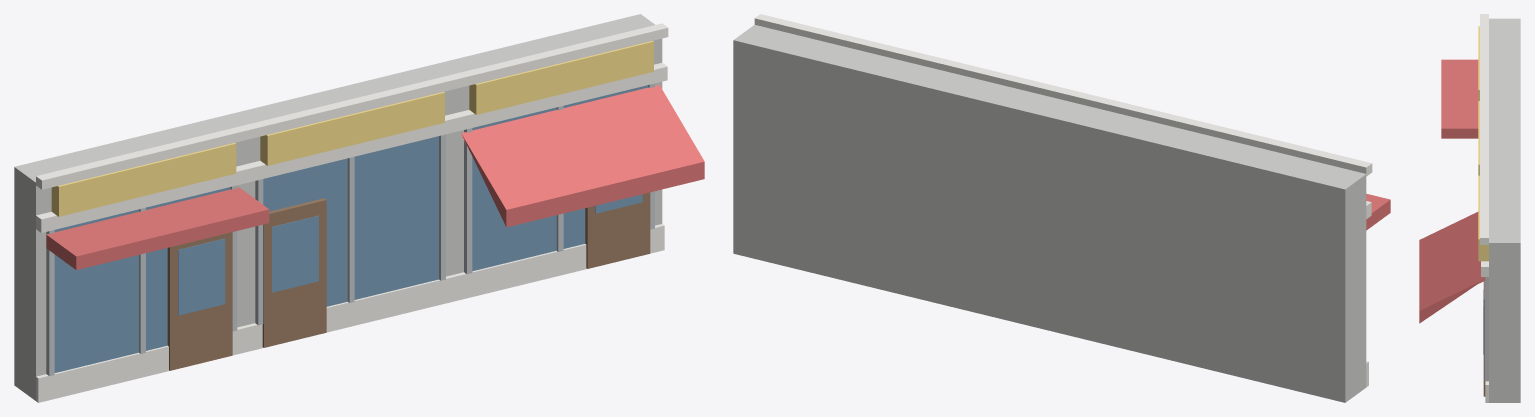
File: storefront_d.glb
3 views of the same model, side by side, from view 1: azimuth 30°, elevation 25°; view 2: azimuth 150°, elevation 25°; view 3: azimuth 270°, elevation 25° (orthographic). The views are drawn at different scales.
Visible parts, largest first — view 1: storefront_d; view 2: storefront_d; view 3: storefront_d.
Boxes of the visible parts, x1=… form: storefront_d: x1=14, y1=14, x2=704, y2=402; storefront_d: x1=733, y1=14, x2=1390, y2=402; storefront_d: x1=1419, y1=14, x2=1520, y2=402.
Size of the model in its own units: 12 by 4.12 by 2.3.
